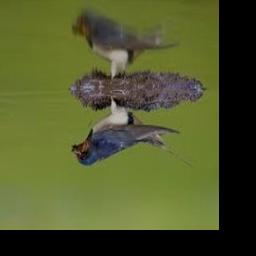Swallow: (72, 96, 196, 167)
